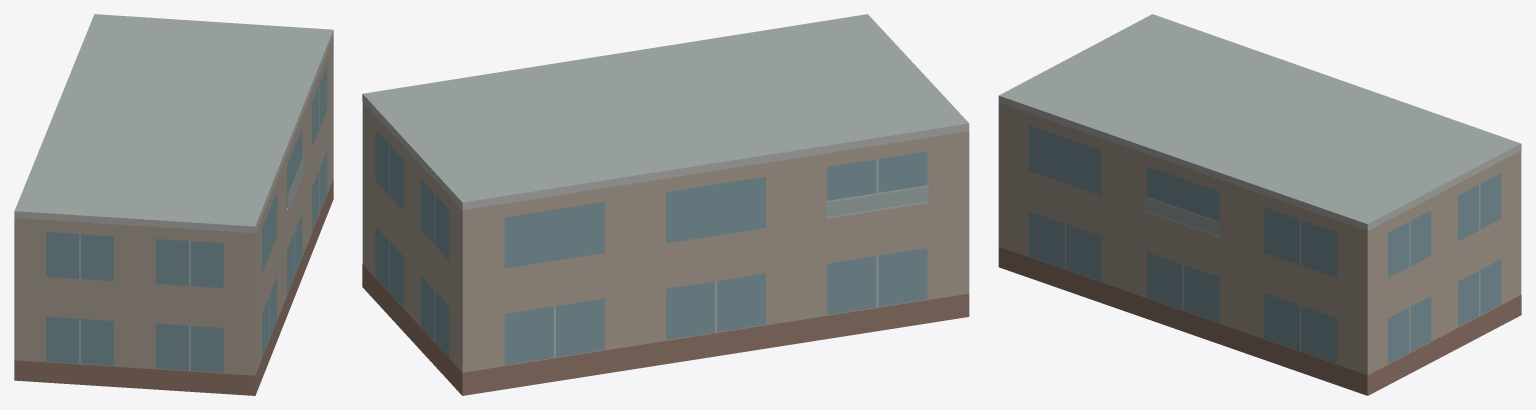
File: survey-upis-32656883.glb
3 views of the same model, side by side, from view 1: azimuth 30°, elevation 25°; view 2: azimuth 150°, elevation 25°; view 3: azimuth 270°, elevation 25° (orthographic). The views are drawn at different scales.
Visible parts, largest first — view 1: survey-upis-32656883.tmp; view 2: survey-upis-32656883.tmp; view 3: survey-upis-32656883.tmp.
Part boxes in pixels (left/top/right/bottom): survey-upis-32656883.tmp: left=14, top=14, right=333, bottom=395; survey-upis-32656883.tmp: left=362, top=14, right=969, bottom=395; survey-upis-32656883.tmp: left=998, top=14, right=1521, bottom=395.
Size of the model in its own units: 16.04 by 6.1 by 16.85.
